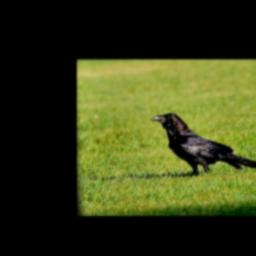Crow: (147, 111, 256, 177)
